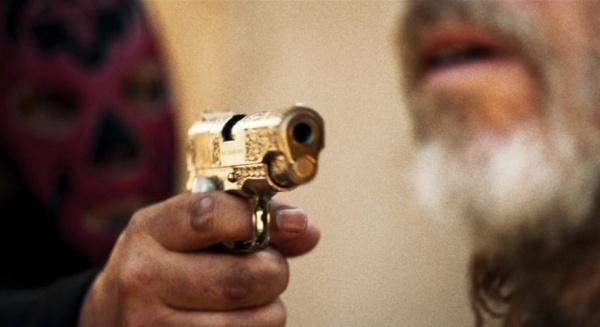Gun: (189, 103, 326, 198)
